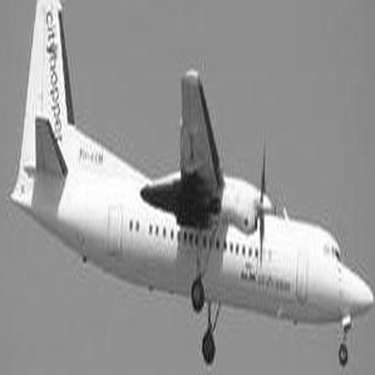airplane: (3, 1, 371, 368)
